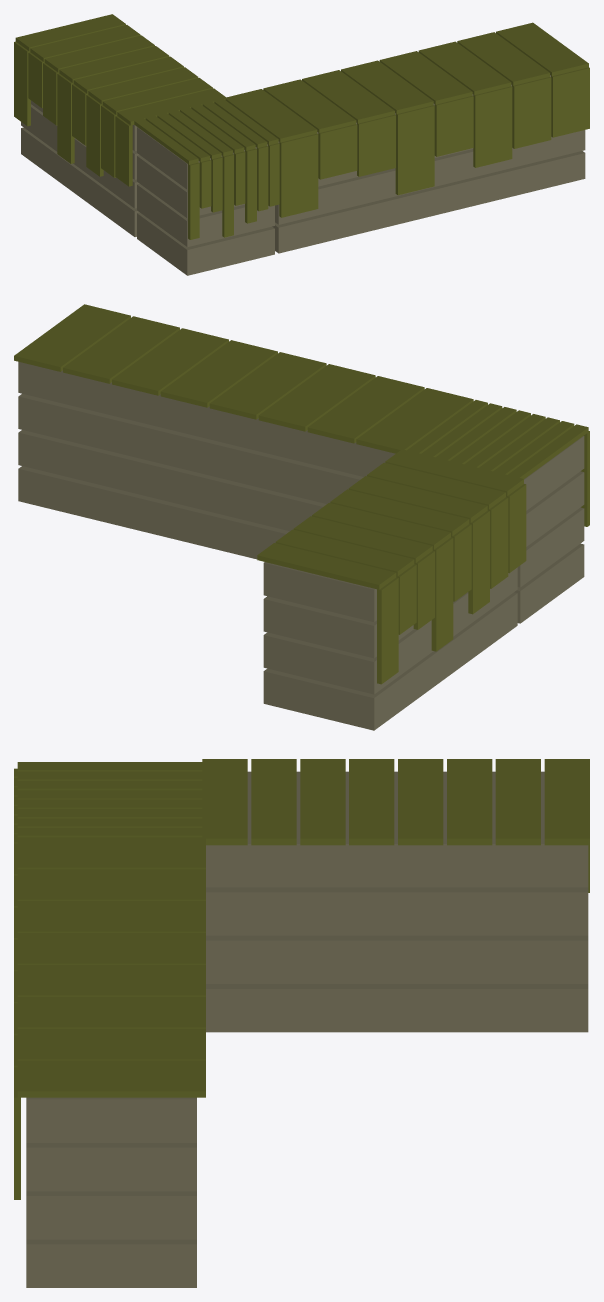
Rendered from SM_PretilEsquinaPaso_v4_Red_e0_Sano_LOD1.fbx.
3 renders of one model, top to bottom at view 1: azimuth 30°, elevation 25°; view 2: azimuth 150°, elevation 25°; view 3: azimuth 270°, elevation 25°, orthographic. The views are drawn at different scales.
Parts seen in each view (by area): view 1: SM_pretil_azotea_v56_LOD1; view 2: SM_pretil_azotea_v56_LOD1; view 3: SM_pretil_azotea_v56_LOD1.
Part boxes in pixels (bbox=[...]): SM_pretil_azotea_v56_LOD1: bbox=[14, 14, 589, 275]; SM_pretil_azotea_v56_LOD1: bbox=[14, 304, 589, 730]; SM_pretil_azotea_v56_LOD1: bbox=[14, 759, 589, 1287].
Bounding box in the file's own units: 4.44 × 1.23 × 3.24.
